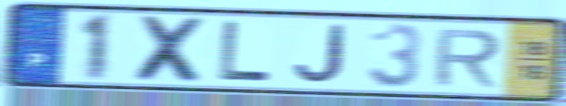1: (78, 10, 120, 85)
3: (366, 22, 423, 91)
J: (292, 23, 349, 85)
L: (216, 19, 274, 85)
R: (430, 28, 504, 89)
X: (131, 13, 211, 86)
